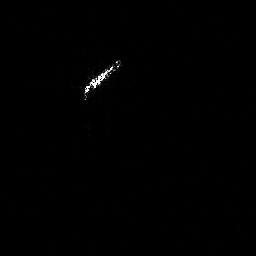ship: (78, 57, 124, 102)
